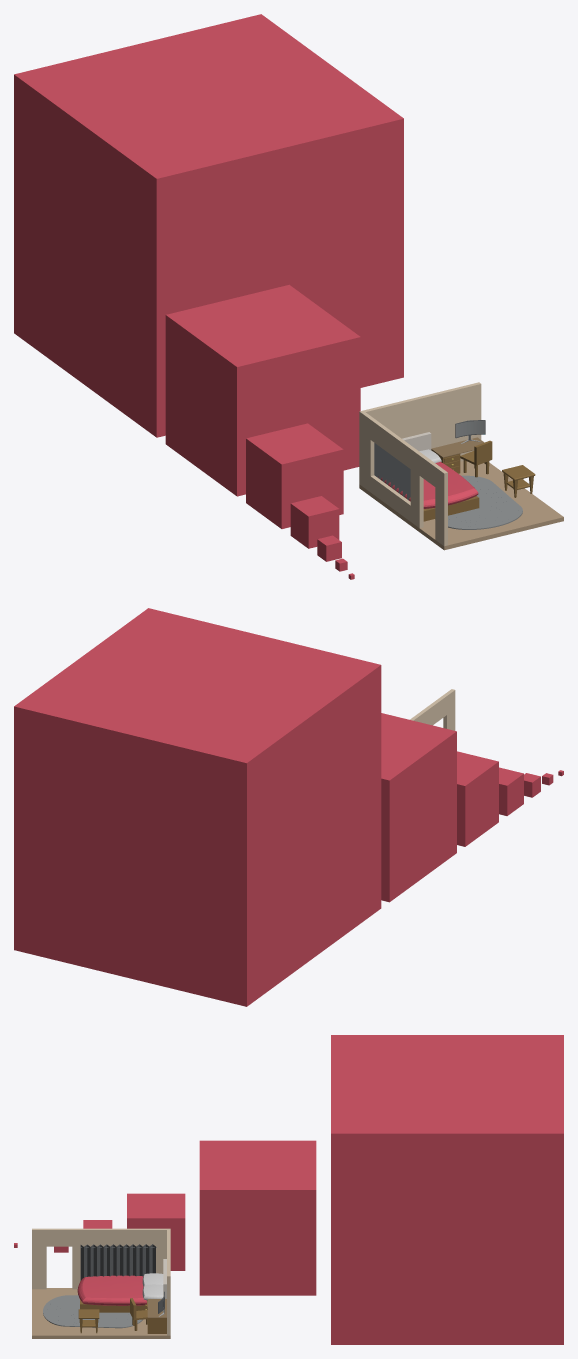
Rendered from TremendousJofo.glb.
3 renders of one model, top to bottom at view 1: azimuth 30°, elevation 25°; view 2: azimuth 150°, elevation 25°; view 3: azimuth 270°, elevation 25°, orthographic. The views are drawn at different scales.
Parts seen in each view (by area): view 1: Mesh_Mesh_head_geo.001_lambert2SG.001; view 2: Mesh_Mesh_head_geo.001_lambert2SG.001; view 3: Mesh_Mesh_head_geo.001_lambert2SG.001.
Boxes of the visible parts, x1,y1,x2,y2 form: Mesh_Mesh_head_geo.001_lambert2SG.001: (14,14,563,579); Mesh_Mesh_head_geo.001_lambert2SG.001: (14,608,563,1006); Mesh_Mesh_head_geo.001_lambert2SG.001: (14,1035,563,1344).
Bounding box in the file's own units: 0.064 × 0.065 × 0.151.
